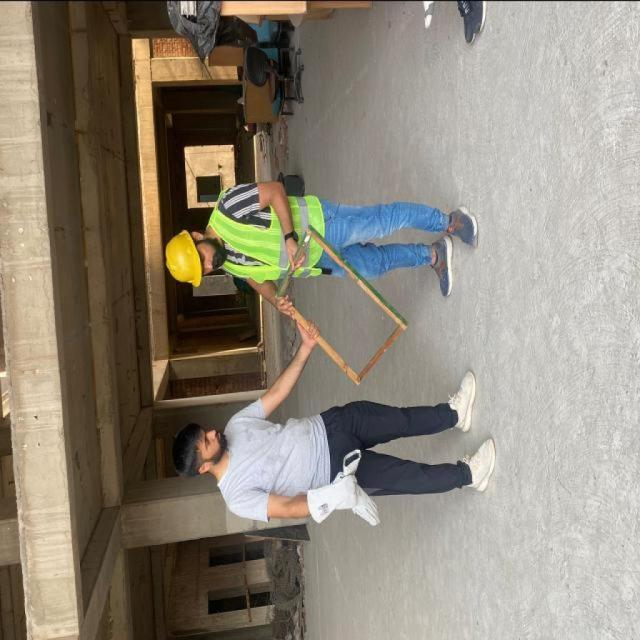Gloves-Detection: (304, 460, 393, 530)
